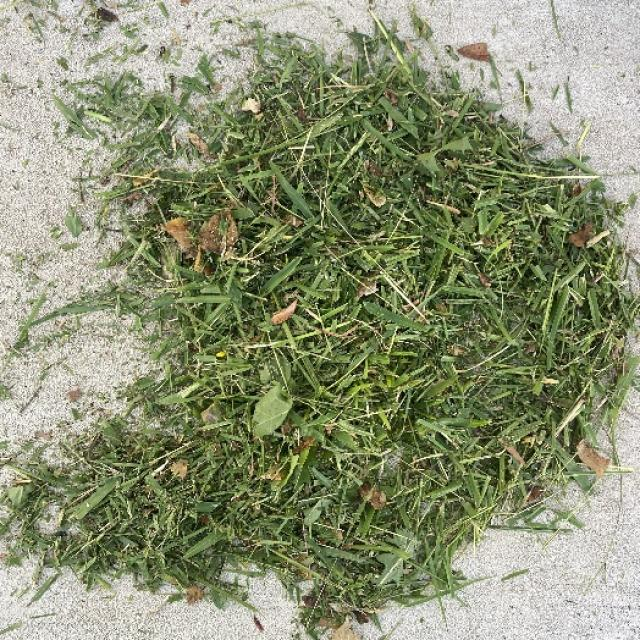organik: (95, 40, 628, 610)
